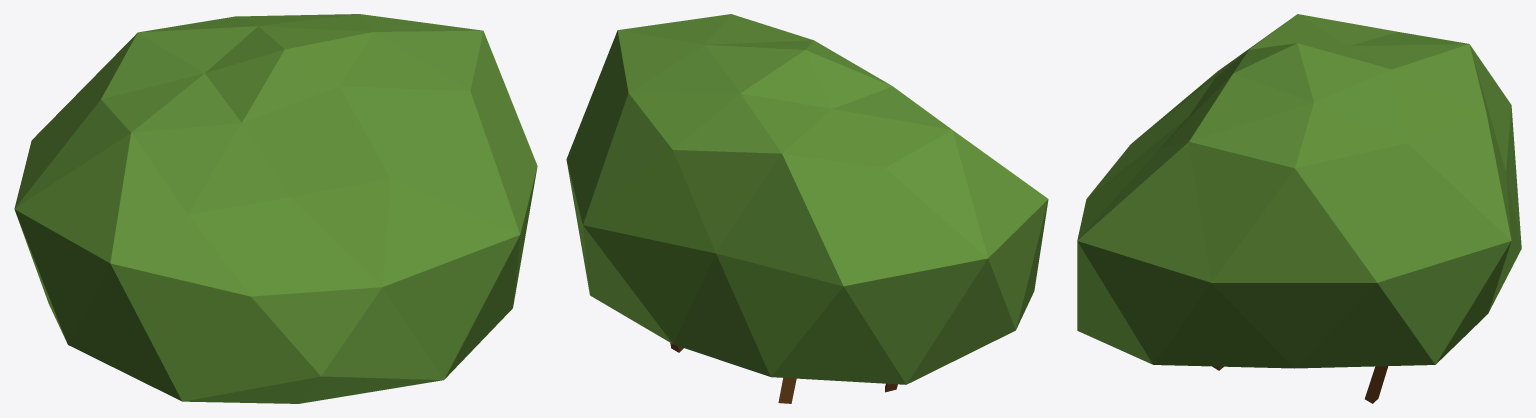
Rendered from vaike poosas elav.fbx.
3 renders of one model, left to right at view 1: azimuth 30°, elevation 25°; view 2: azimuth 150°, elevation 25°; view 3: azimuth 270°, elevation 25°, orthographic. The views are drawn at different scales.
Parts seen in each view (by area): view 1: üksikpoosaselus; view 2: üksikpoosaselus; view 3: üksikpoosaselus.
Part boxes in pixels (x1=…): üksikpoosaselus: x1=14, y1=14, x2=537, y2=403; üksikpoosaselus: x1=566, y1=14, x2=1048, y2=403; üksikpoosaselus: x1=1077, y1=14, x2=1521, y2=403.
Bounding box in the file's own units: 190 × 128 × 166.
